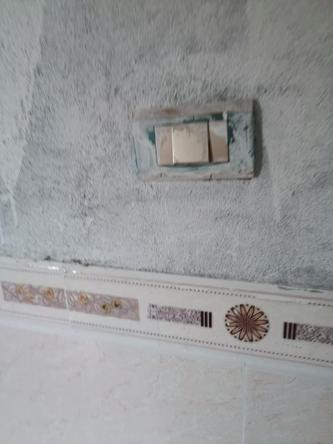switch: (171, 121, 211, 165)
